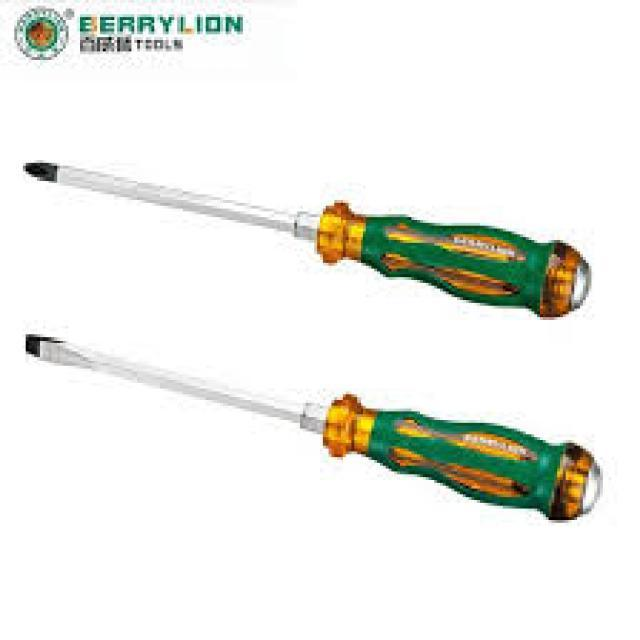screwdriver: (22, 328, 604, 528), (22, 160, 594, 326)
